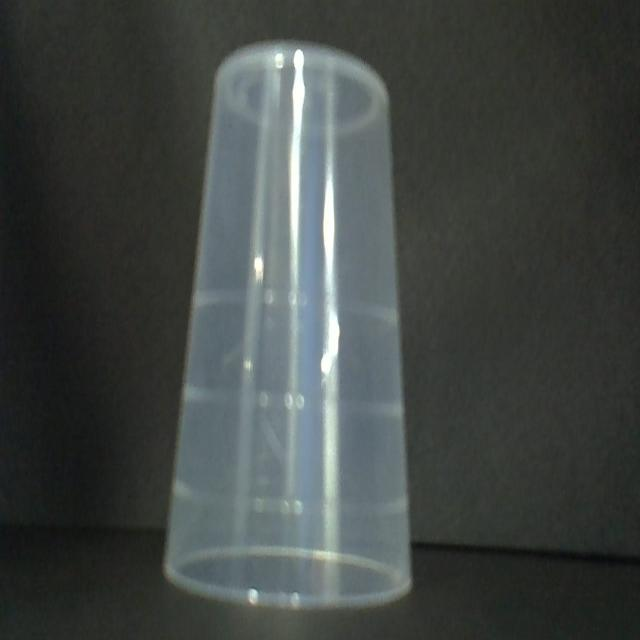cup: (163, 48, 423, 617)
